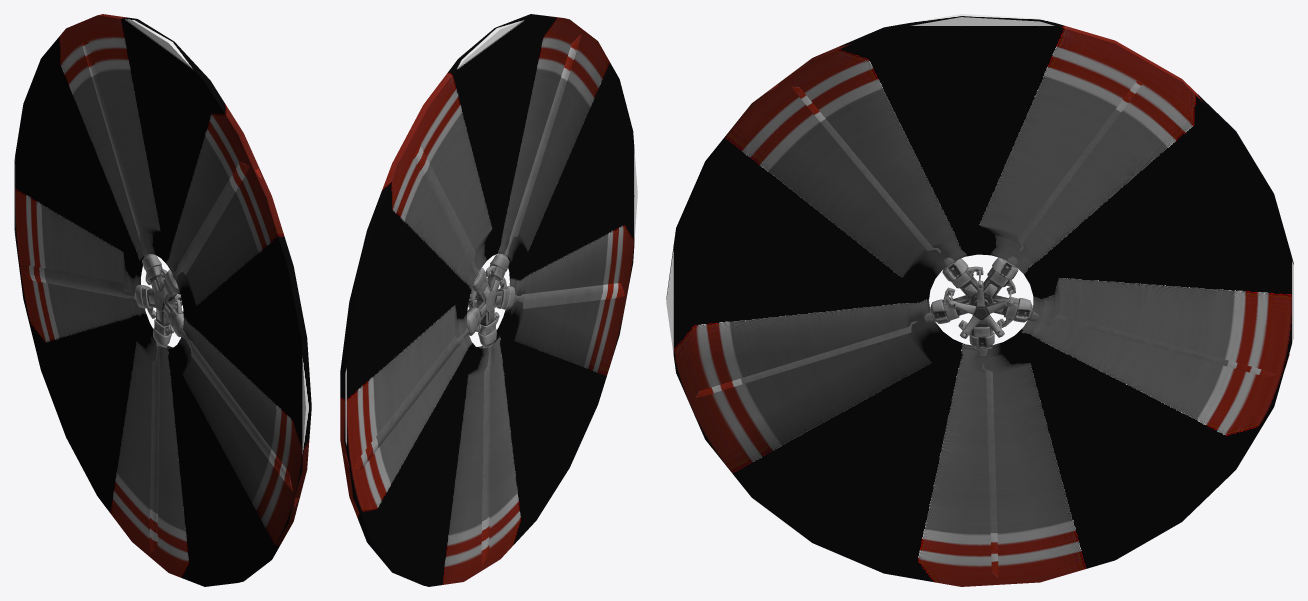
File: AC313_ceshan_01.FBX
The picture shows the model from 3 angles, left to right: view 1: azimuth 30°, elevation 25°; view 2: azimuth 150°, elevation 25°; view 3: azimuth 270°, elevation 25°; orthographic projection. The views are drawn at different scales.
Parts seen in each view (by area): view 1: AC131_xuanyi_2, AC313_ceshan_02, AC313_ceshan_01; view 2: AC131_xuanyi_2, AC313_ceshan_02, AC313_ceshan_01; view 3: AC131_xuanyi_2, AC313_ceshan_02, AC313_ceshan_01.
Part boxes in pixels (x1,y1,x2,y2): AC131_xuanyi_2: (14,14,311,586); AC313_ceshan_02: (21,41,298,553); AC313_ceshan_01: (135,254,183,346); AC131_xuanyi_2: (340,14,637,586); AC313_ceshan_02: (344,34,624,566); AC313_ceshan_01: (467,253,515,346); AC131_xuanyi_2: (666,14,1293,586); AC313_ceshan_02: (696,50,1289,577); AC313_ceshan_01: (930,257,1032,348).
Size of the model in its own units: 0.2739 by 4.6 by 4.59.
